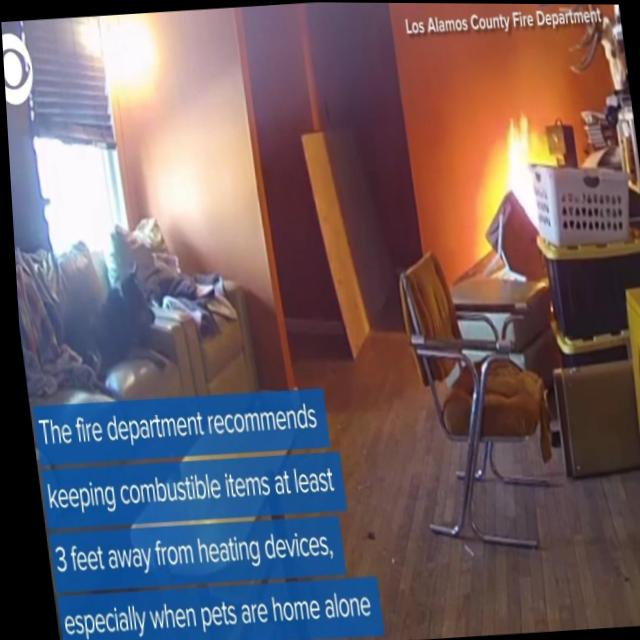fire: (487, 89, 550, 231)
